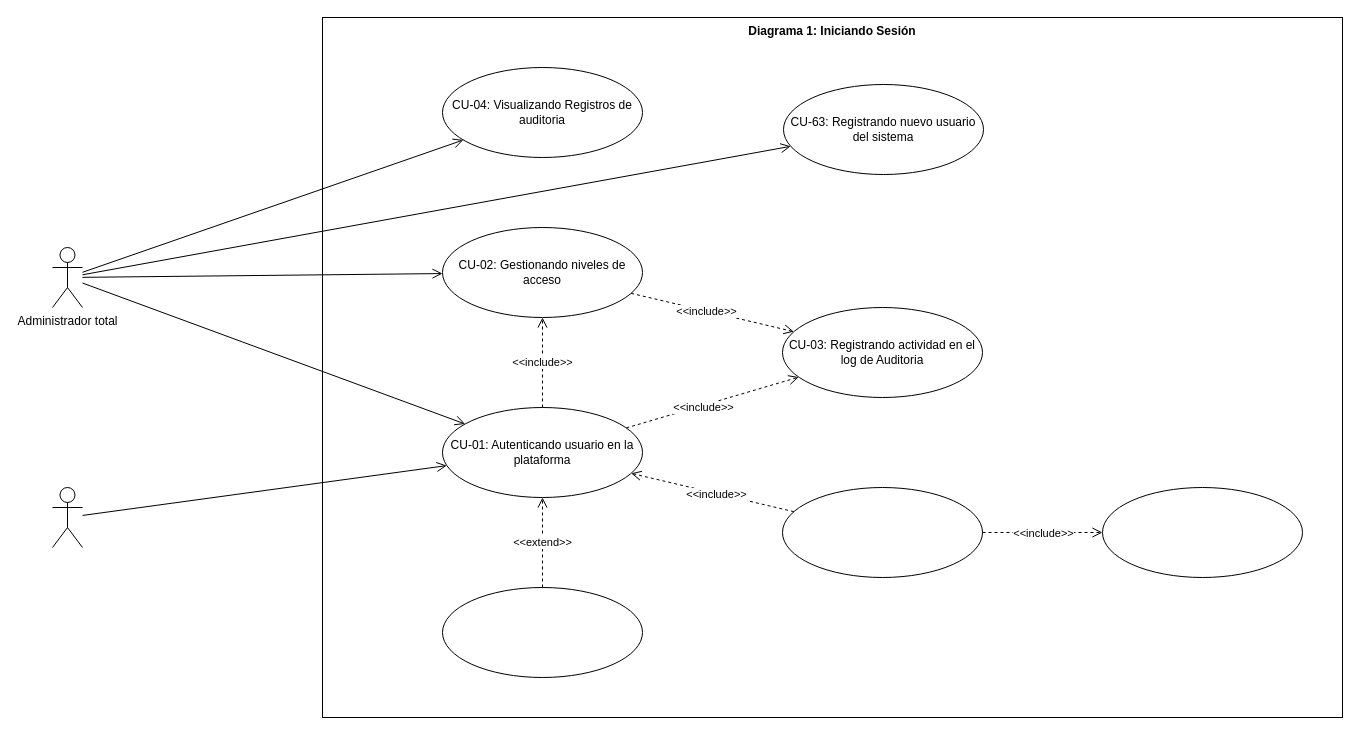
The diagram is 1360 pixels wide and 735 high, and some of its shapes have lost their labels. Each missing label, with the centre of its shape:
"CU-05: Finalizando sesión por inactividad" belongs at (x=542, y=632).
"CU-06: Solicitando recuperación de credenciales" belongs at (x=882, y=532).
"CU-07: Restableciendo contraseñas de acceso" belongs at (x=1202, y=532).
"Supervisor de obra" belongs at (x=67, y=517).
